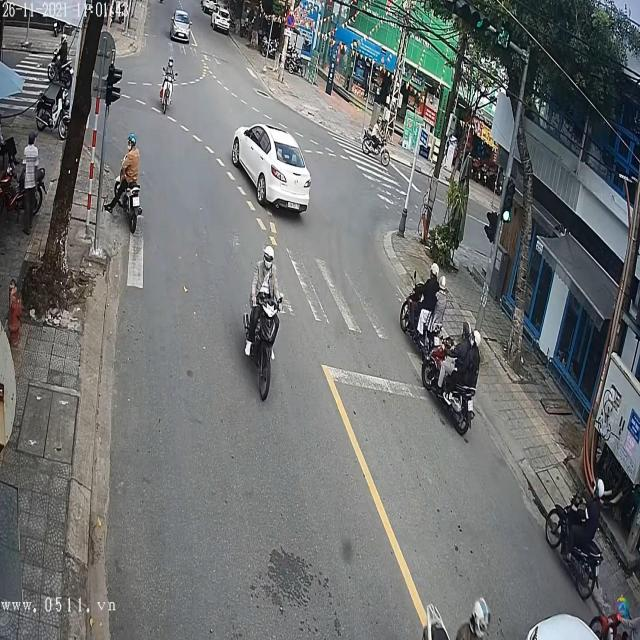car: (231, 122, 315, 216), (169, 8, 192, 43), (201, 1, 220, 16)
motorcycle: (543, 491, 604, 606), (420, 332, 477, 439), (252, 292, 284, 405), (114, 159, 144, 238), (359, 123, 390, 166), (158, 68, 176, 120)
